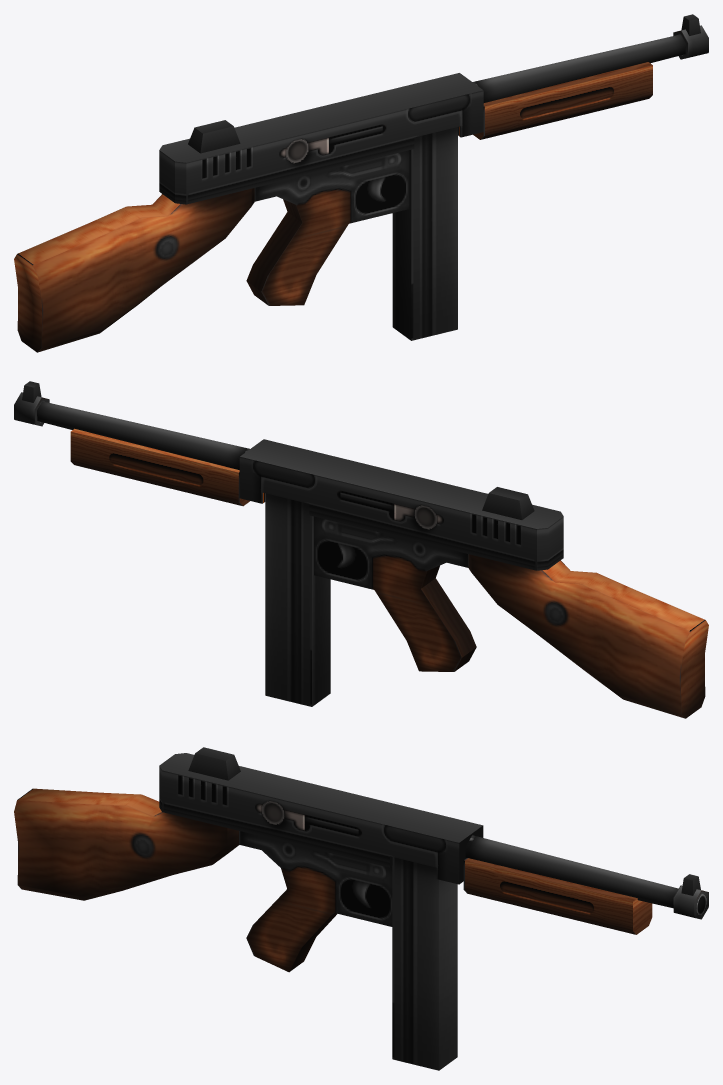
File: thompson lv1.FBX
The picture shows the model from 3 angles, top to bottom: view 1: azimuth 30°, elevation 25°; view 2: azimuth 150°, elevation 25°; view 3: azimuth 330°, elevation 25°; orthographic projection.
Parts seen in each view (by area): view 1: Object117; view 2: Object117; view 3: Object117.
Part boxes in pixels (bbox=[...]): Object117: bbox=[14, 14, 708, 352]; Object117: bbox=[14, 381, 708, 718]; Object117: bbox=[14, 747, 708, 1070].
Size of the model in its own units: 86.04 by 30.71 by 5.28.
